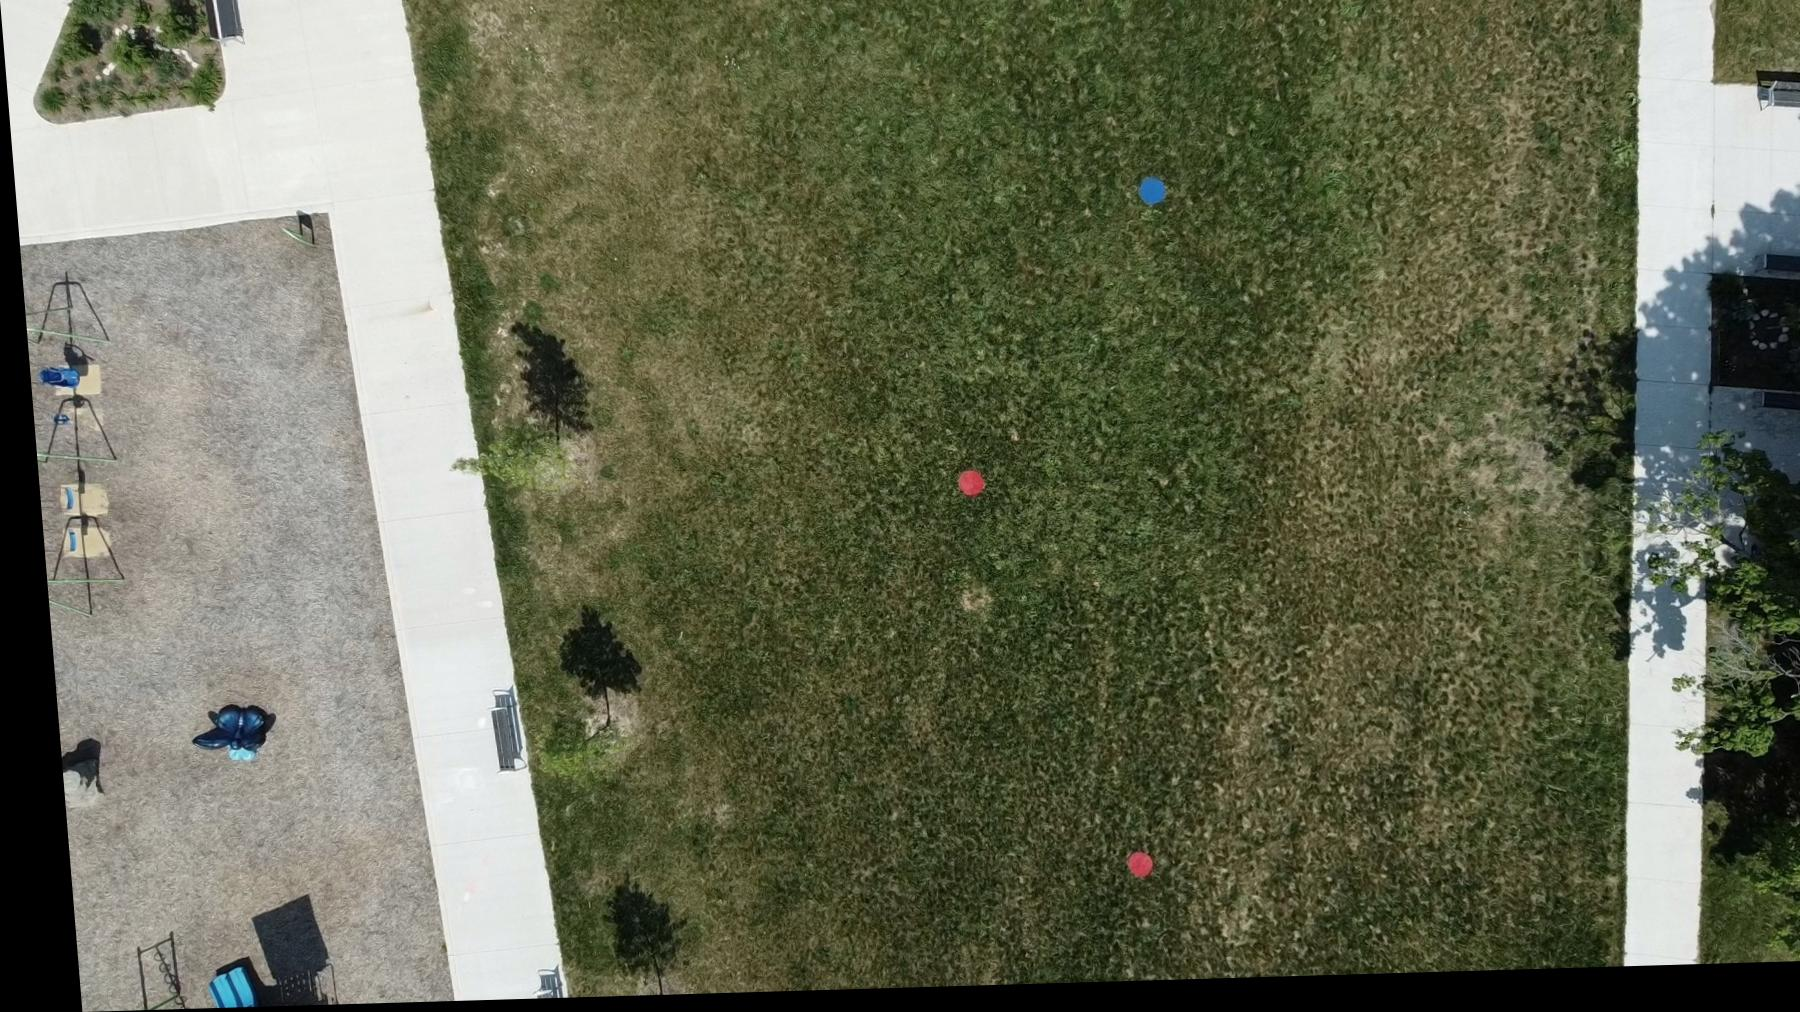Blue: (1132, 183, 1163, 214)
Red: (947, 474, 978, 505), (1109, 856, 1140, 886)
